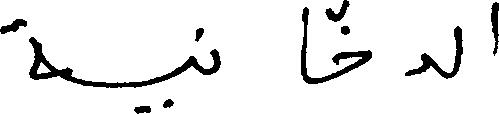X: (132, 25, 196, 113), (325, 0, 370, 86), (0, 14, 55, 84), (198, 23, 219, 79), (407, 48, 430, 80), (452, 21, 464, 81), (298, 2, 306, 87), (490, 0, 498, 60)
